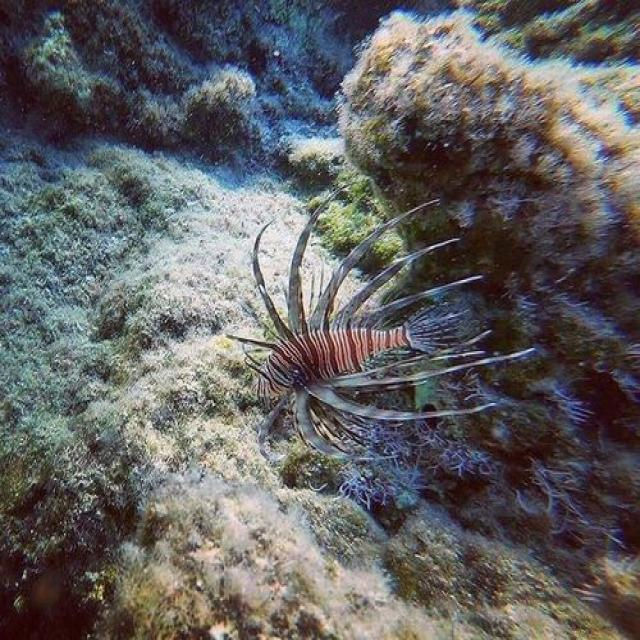Aslan Baligi: (226, 179, 536, 467)
